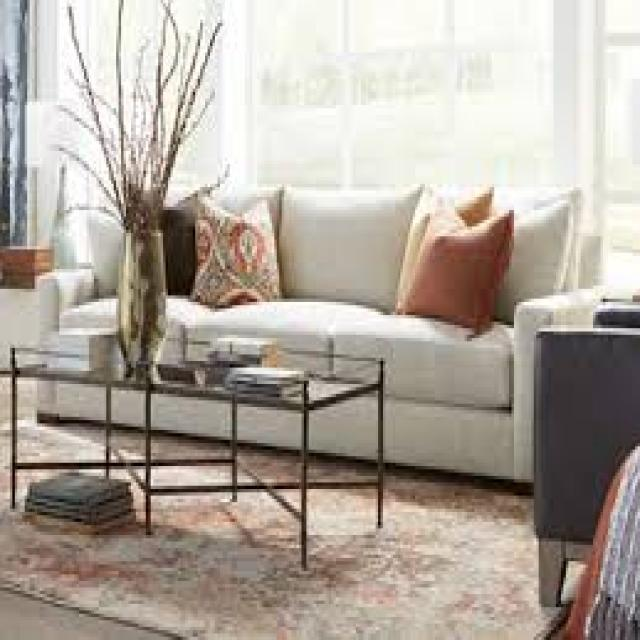Chair: (532, 288, 640, 586)
Sofa: (47, 196, 585, 479)
Table: (15, 331, 390, 557)
